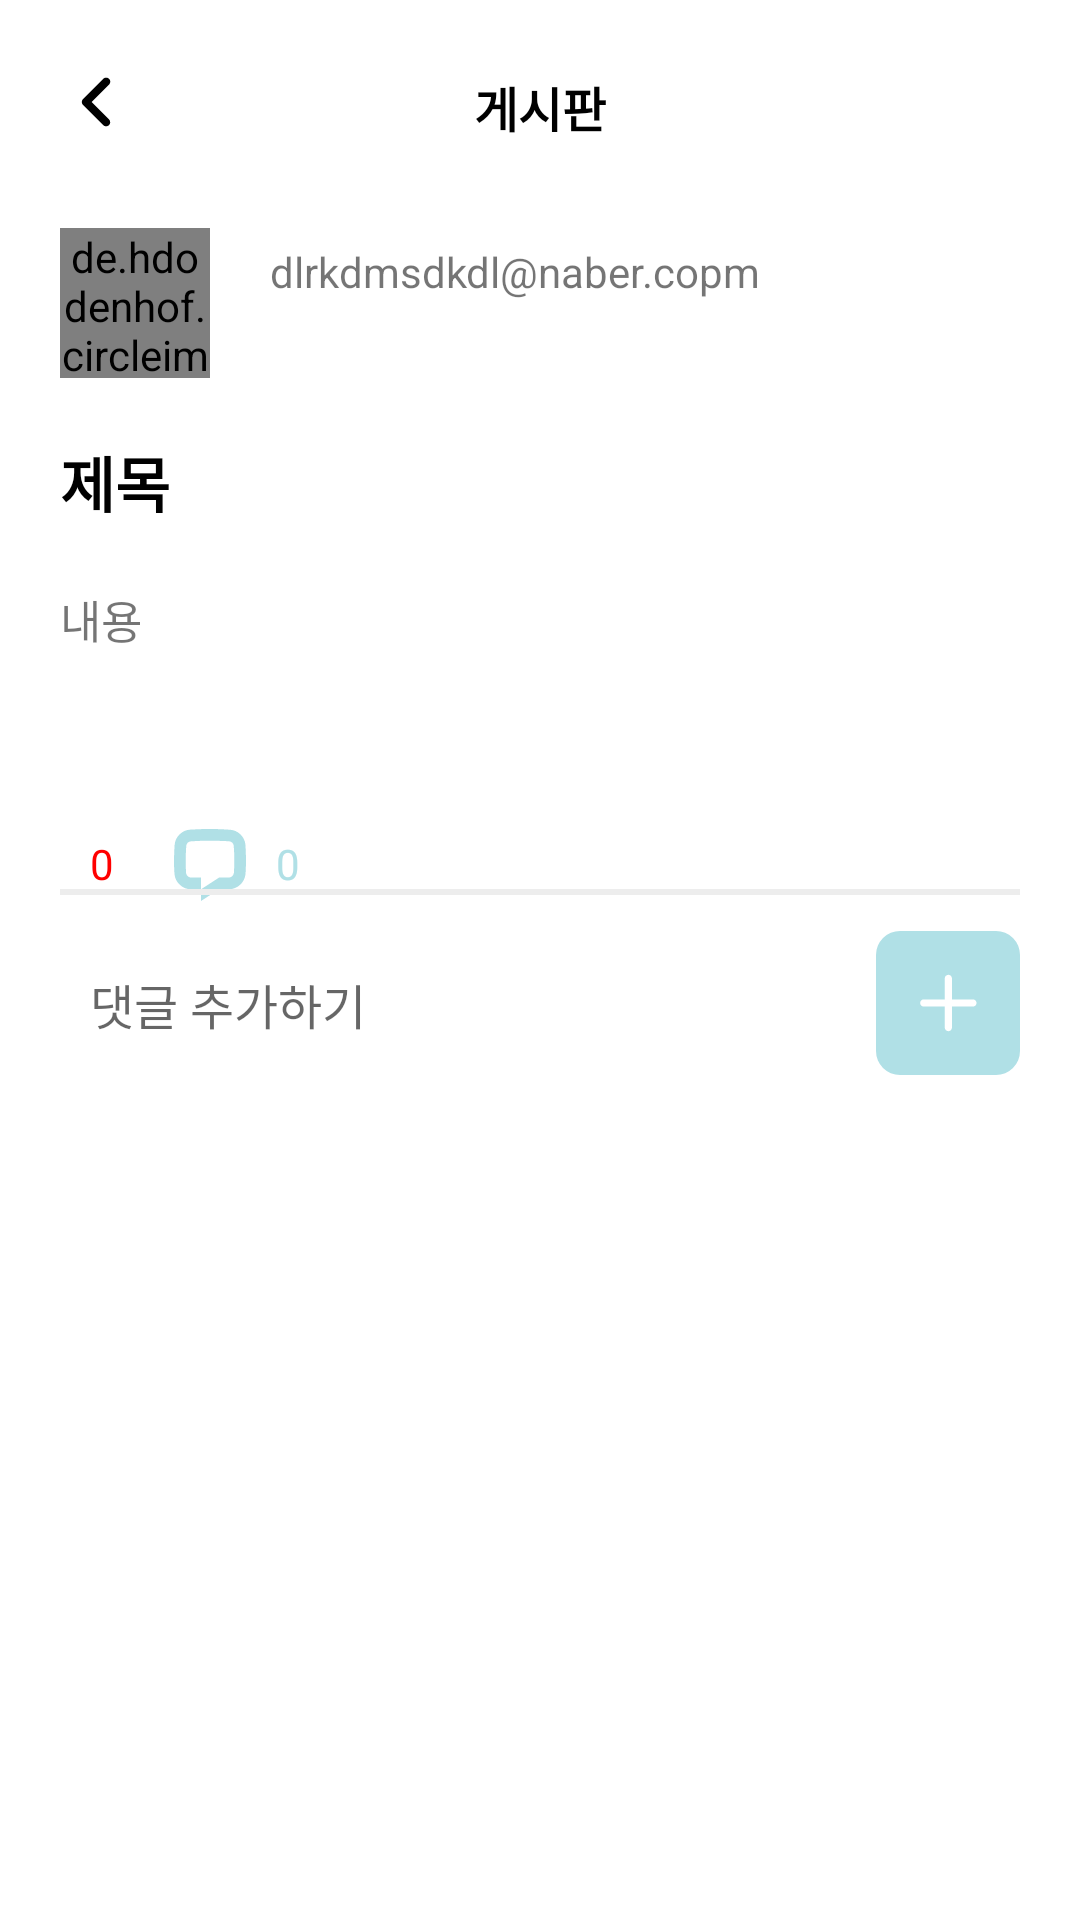

Icon click points for this 1080w x 1920h phone screenshot, format (x=x, y=y):
arrow left: (x=96, y=102)
